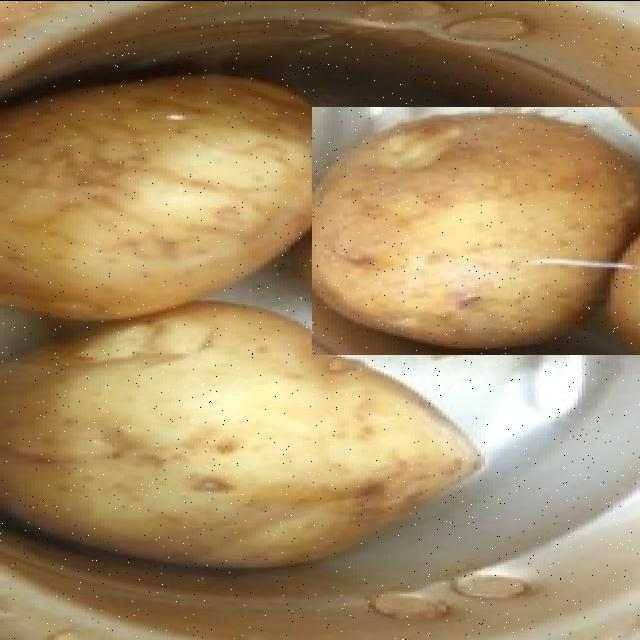Potato: (0, 300, 488, 568), (0, 72, 352, 320), (312, 106, 640, 354)
